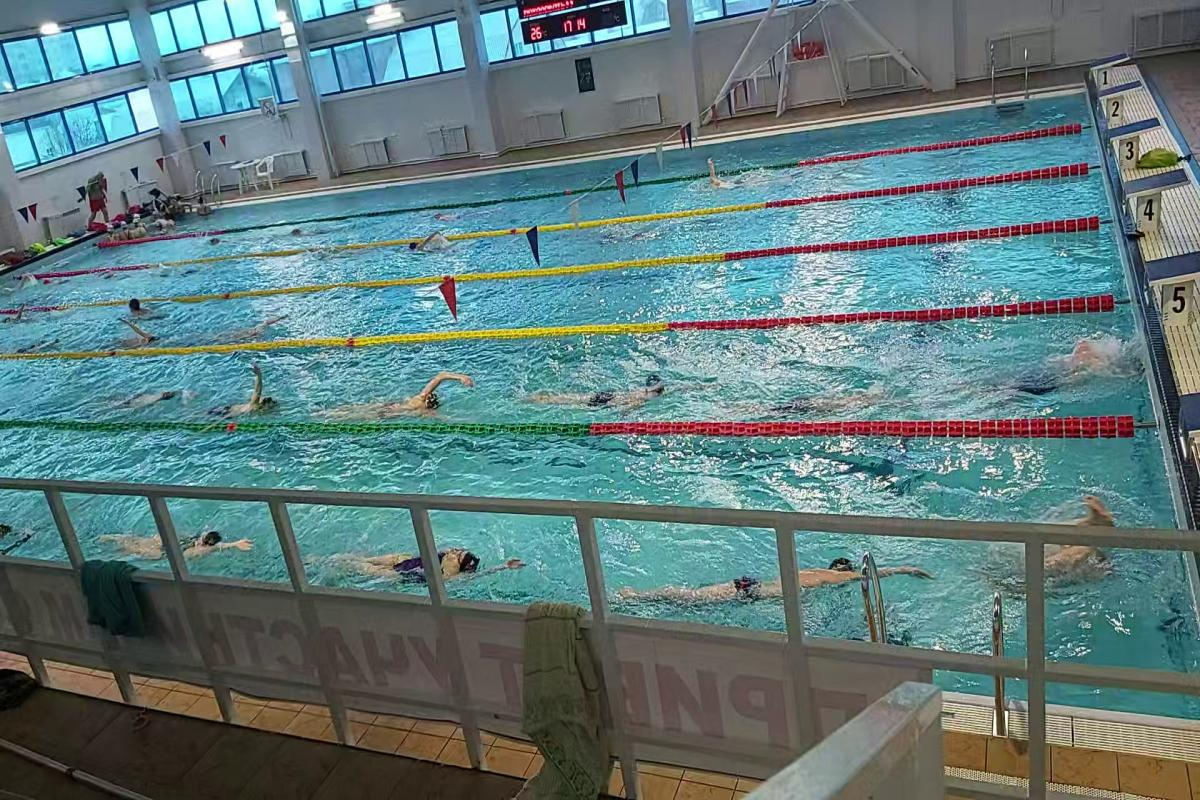swimmer: (611, 550, 933, 618), (332, 523, 529, 588), (989, 496, 1125, 584), (100, 515, 261, 566), (317, 369, 477, 420), (530, 365, 687, 414), (212, 370, 282, 422), (117, 378, 188, 412), (221, 308, 293, 338), (702, 152, 747, 192), (113, 318, 164, 349), (403, 232, 456, 253), (424, 203, 470, 226), (117, 297, 165, 315)
